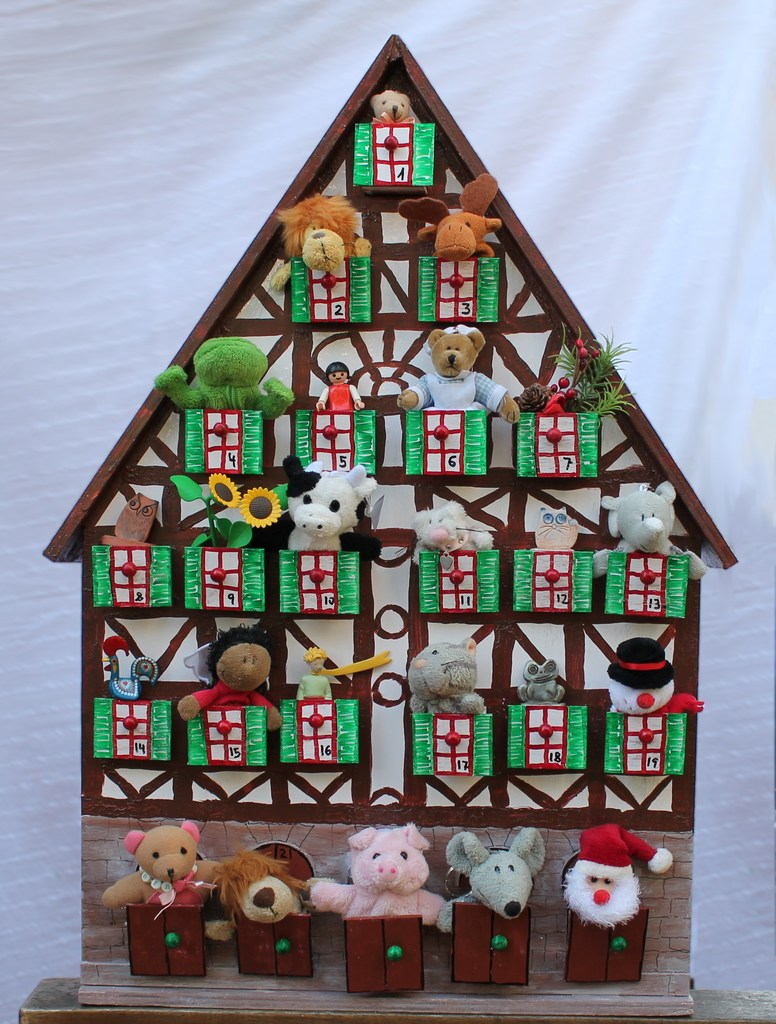Person: (315, 359, 364, 411)
